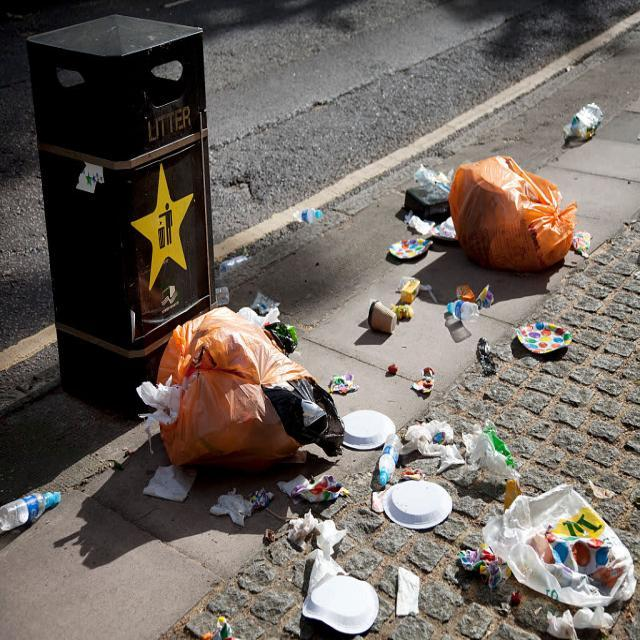Garbage_Bag: (136, 304, 348, 479), (448, 146, 586, 275)
